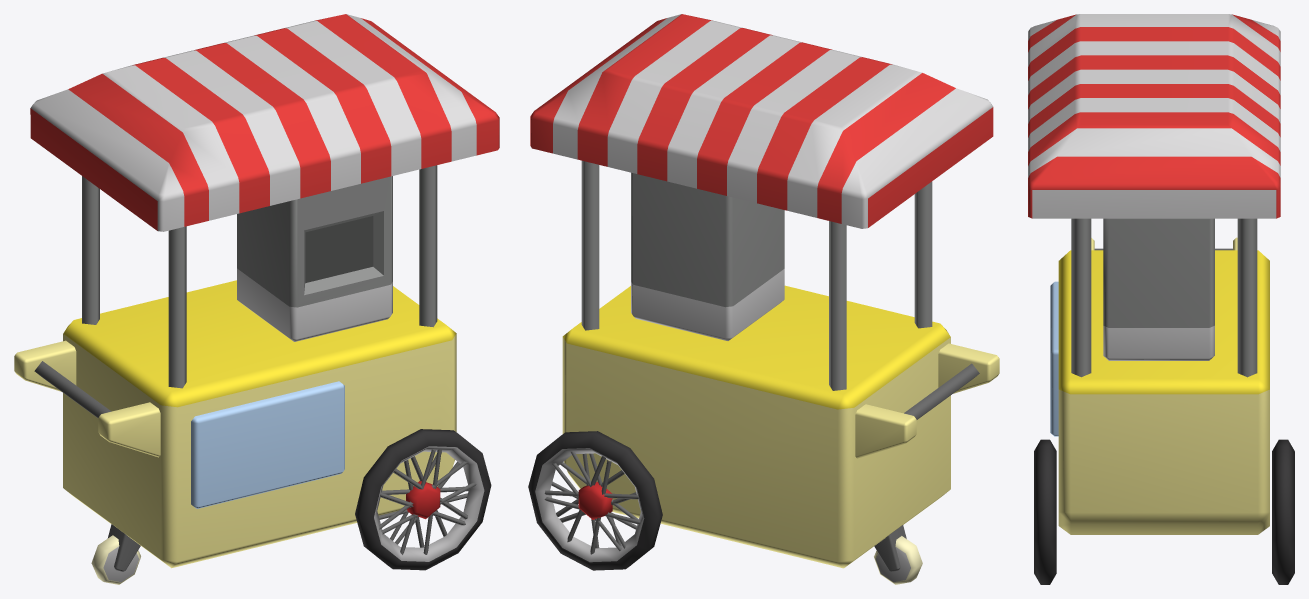
The model's file is stall_007.gltf.
The picture shows the model from 3 angles, left to right: view 1: azimuth 30°, elevation 25°; view 2: azimuth 150°, elevation 25°; view 3: azimuth 270°, elevation 25°; orthographic projection. The views are drawn at different scales.
Parts seen in each view (by area): view 1: stall_007; view 2: stall_007; view 3: stall_007.
Part boxes in pixels (x1,y1,x2,y2): stall_007: (14, 14, 499, 584); stall_007: (528, 14, 999, 584); stall_007: (1028, 14, 1294, 584).
Size of the model in its own units: 1.8 by 2.23 by 1.17.
Materials: 1 (1 with a texture image).
